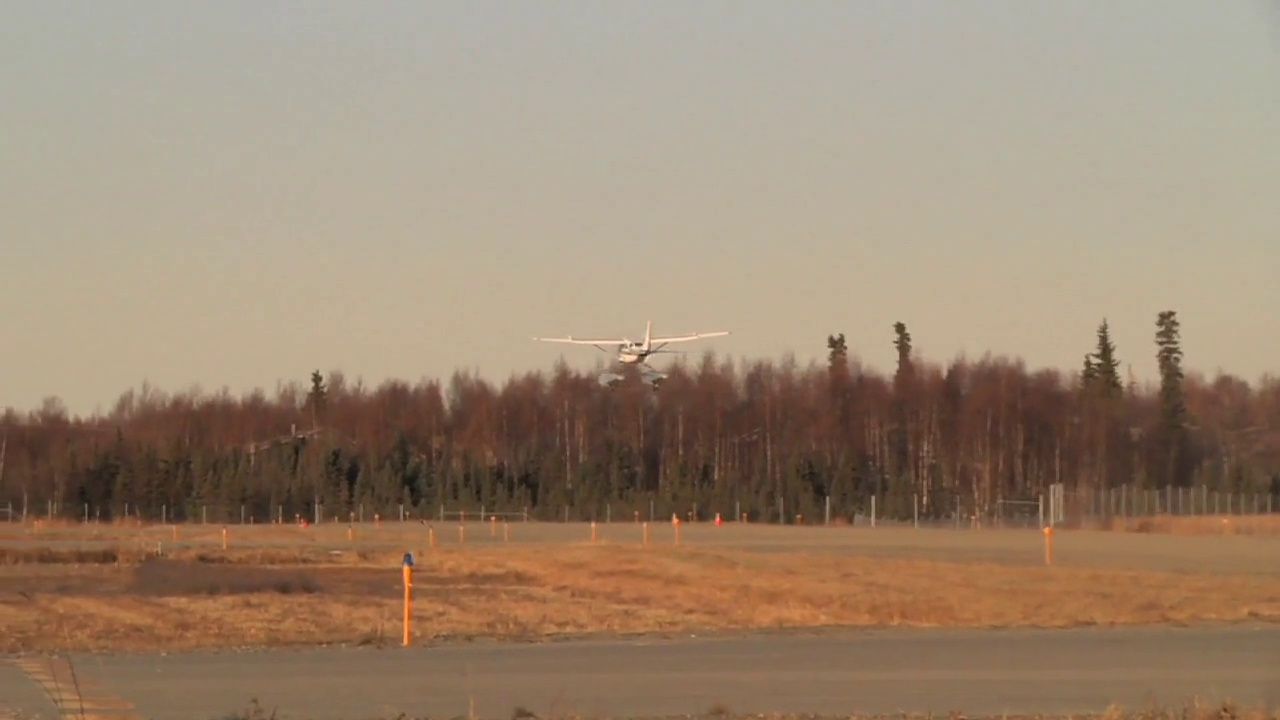plane: (534, 321, 731, 389)
